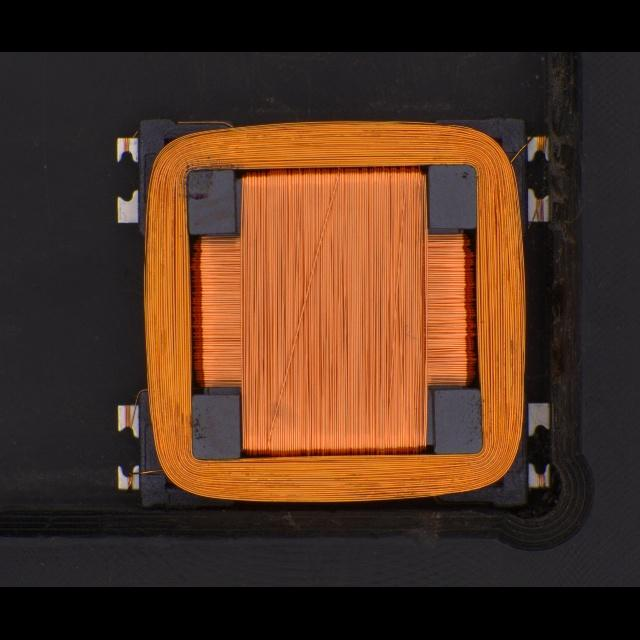Winding_Z: (131, 118, 529, 506)
